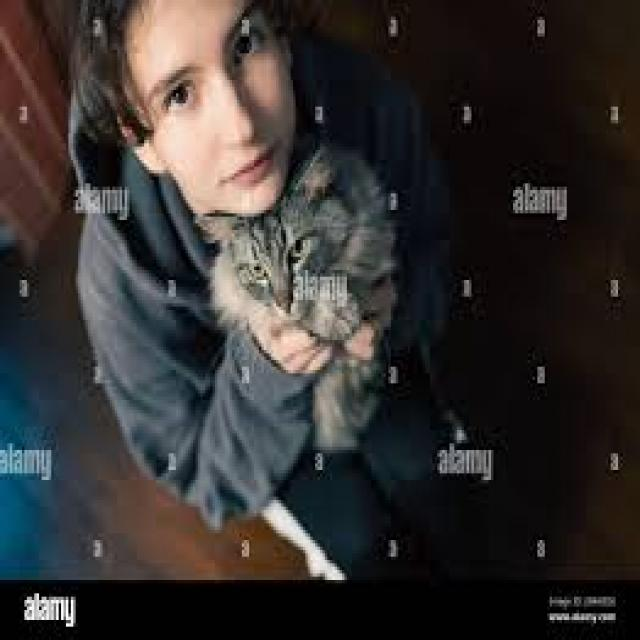Cat: (199, 164, 349, 340)
